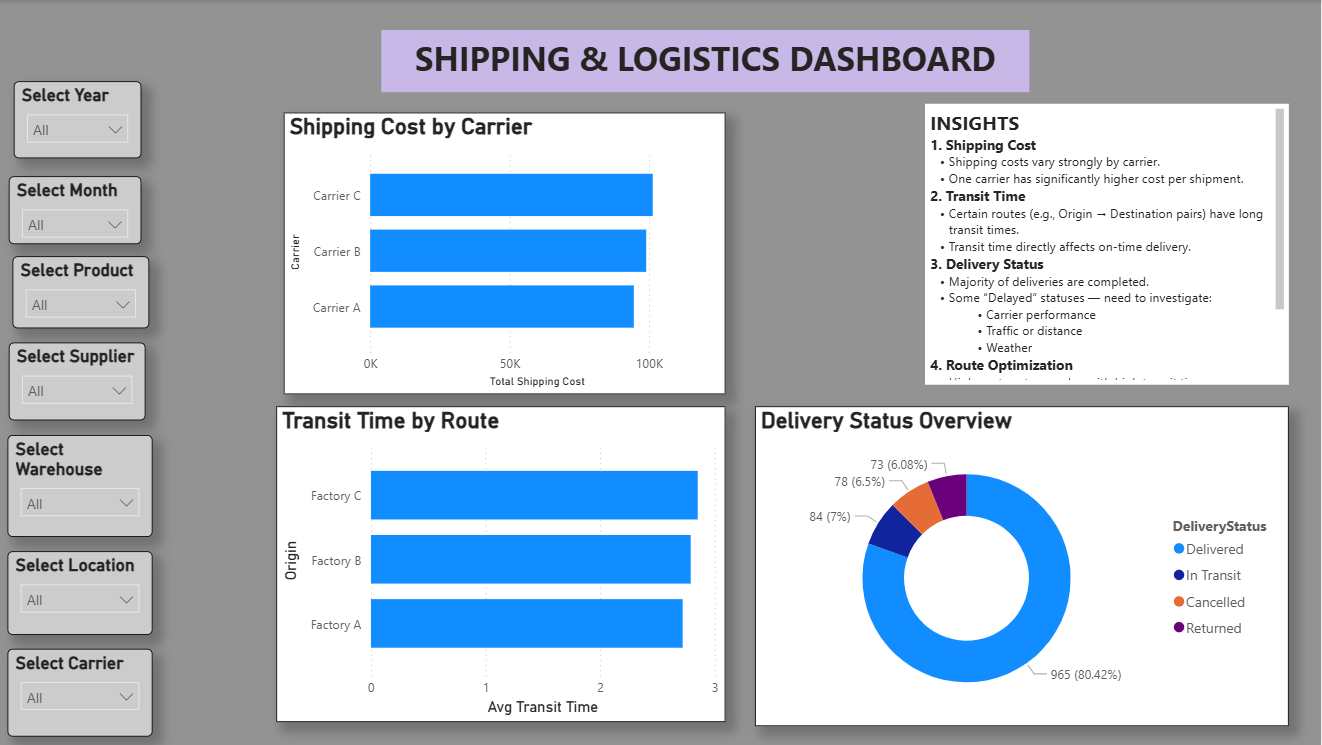

Layout of this report page (visuals, bound fields, positions):
{"tool":"powerbi","page":{"name":"Page 5","canvas":[1280,720],"ordinal":4},"visuals":[{"type":"clusteredBarChart","title":"Shipping Cost by Carrier","fields":{"Category":["shipping_table.Carrier"],"Y":["DateTable.Total Shipping Cost"]},"box":[278.6,108.4,426.8,271.7],"z":0},{"type":"clusteredBarChart","title":"Transit Time by Route","fields":{"Category":["shipping_table.Origin"],"Y":["DateTable.Avg Transit Time"]},"box":[271.7,392.5,433.6,304.6],"z":1},{"type":"donutChart","title":"Delivery Status Overview","fields":{"Category":["shipping_table.DeliveryStatus"],"Y":["CountNonNull(shipping_table.ShipmentID)"]},"box":[733.5,392.1,515.2,308.8],"z":2},{"type":"slicer","title":"Select Year","fields":{"Values":["DateTable.Year"]},"box":[17.8,78.2,123.5,74.1],"z":3},{"type":"slicer","title":"Select Month","fields":{"Values":["DateTable.Month"]},"box":[13.7,170.2,127.6,65.9],"z":4},{"type":"slicer","title":"Select Product","fields":{"Values":["products_table.ProductID"]},"box":[16.5,247,131.7,70],"z":5},{"type":"slicer","title":"Select Supplier","fields":{"Values":["suppliers_table.Suppliers name "]},"box":[13.7,330.7,131.7,75.5],"z":6},{"type":"slicer","title":"Select Warehouse","fields":{"Values":["inventory_table.WarehouseID"]},"box":[12.3,419.9,140,98.8],"z":7},{"type":"slicer","title":"Select Location","fields":{"Values":["products_table.Location"]},"box":[12.3,532.4,140,81],"z":8},{"type":"slicer","title":"Select Carrier","fields":{"Values":["shipping_table.Carrier"]},"box":[12.3,625.7,140,85.1],"z":9},{"type":"textbox","box":[373.2,28.8,625.7,60.4],"z":10},{"type":"textbox","box":[897.6,100.1,351.1,271.4],"z":11}]}

Visuals, with their boxes in screenshot pixels (x1, y1, x2, y2), scaled from the page's 1280x720 canvas onto the 1322x745 screenshot:
"Shipping Cost by Carrier" clusteredBarChart: {"x1": 288, "y1": 112, "x2": 729, "y2": 393}
"Transit Time by Route" clusteredBarChart: {"x1": 281, "y1": 406, "x2": 728, "y2": 721}
"Delivery Status Overview" donutChart: {"x1": 758, "y1": 406, "x2": 1290, "y2": 725}
"Select Year" slicer: {"x1": 18, "y1": 81, "x2": 146, "y2": 158}
"Select Month" slicer: {"x1": 14, "y1": 176, "x2": 146, "y2": 244}
"Select Product" slicer: {"x1": 17, "y1": 256, "x2": 153, "y2": 328}
"Select Supplier" slicer: {"x1": 14, "y1": 342, "x2": 150, "y2": 420}
"Select Warehouse" slicer: {"x1": 13, "y1": 434, "x2": 157, "y2": 537}
"Select Location" slicer: {"x1": 13, "y1": 551, "x2": 157, "y2": 635}
"Select Carrier" slicer: {"x1": 13, "y1": 647, "x2": 157, "y2": 735}
textbox: {"x1": 385, "y1": 30, "x2": 1032, "y2": 92}
textbox: {"x1": 927, "y1": 104, "x2": 1290, "y2": 384}
